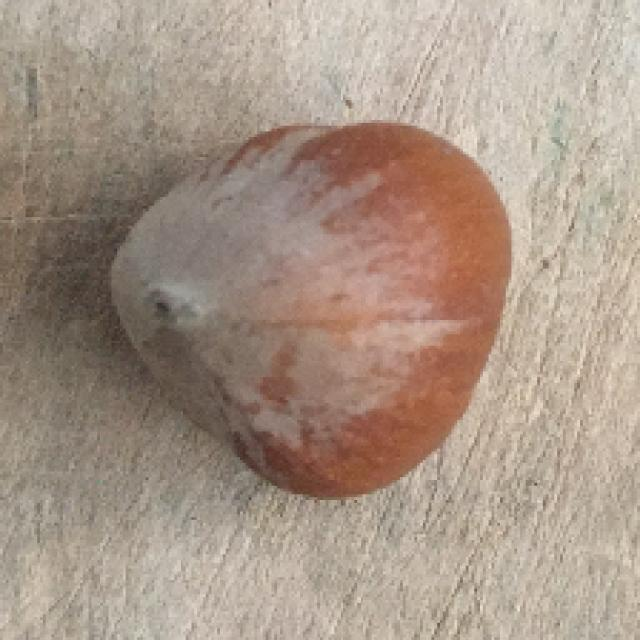qualityHazelnut: (95, 110, 512, 507)
